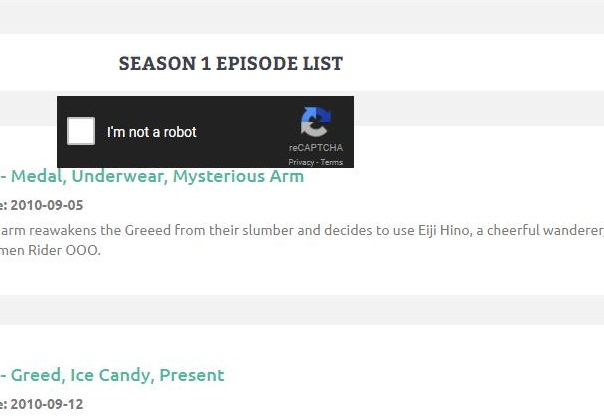captcha: (66, 116, 201, 145)
